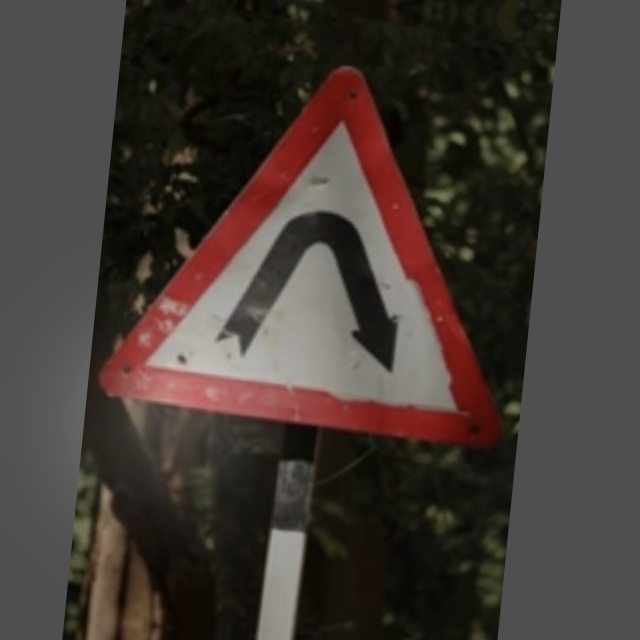Right_Hair_Pin_Bend: (110, 43, 519, 444)
